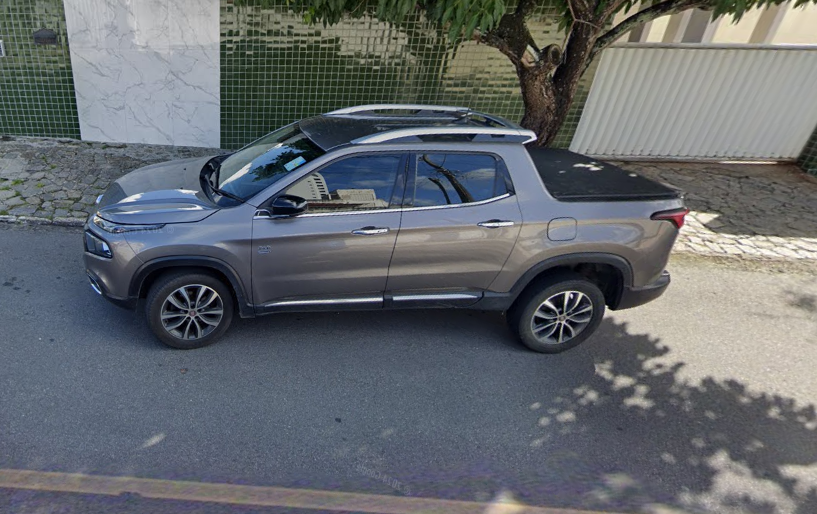car: (79, 92, 692, 356)
